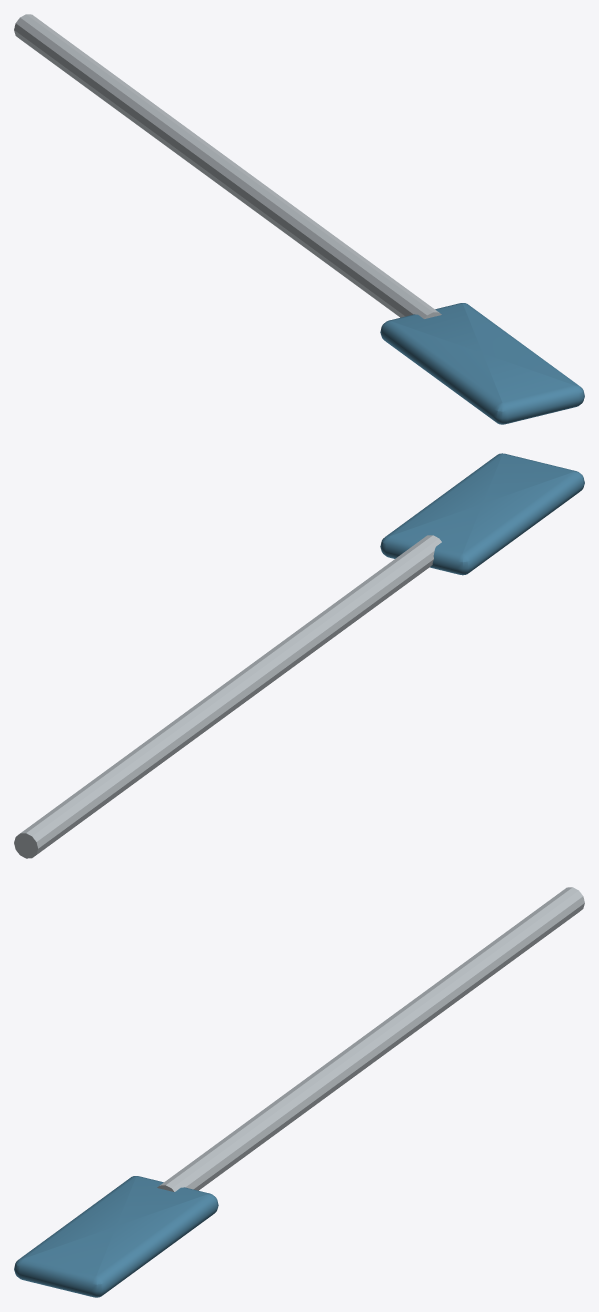
The model's file is powerboat-racing-and-launch-ramp-paddle-caea41f3__22296.glb.
3 renders of one model, top to bottom at view 1: azimuth 30°, elevation 25°; view 2: azimuth 150°, elevation 25°; view 3: azimuth 330°, elevation 25°, orthographic.
Visible parts, largest first — view 1: paddle; view 2: paddle; view 3: paddle.
Boxes of the visible parts, x1,y1,x2,y2 form: paddle: (14,14,584,424); paddle: (14,453,584,858); paddle: (14,887,584,1297).
Bounding box in the file's own units: 0.18 × 0.049 × 1.78.
